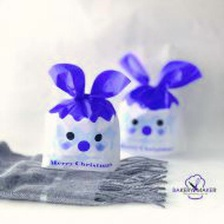snack: (100, 37, 208, 162), (33, 52, 135, 176)
